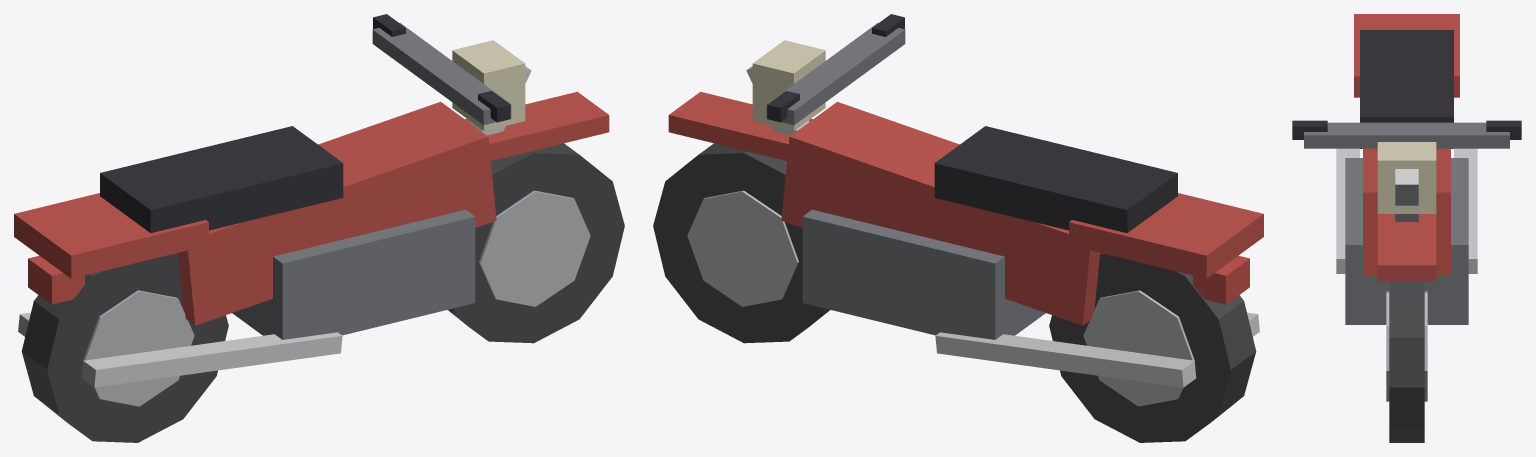
Rendered from Motosiklet_Kirmizi.glb.
The picture shows the model from 3 angles, left to right: view 1: azimuth 30°, elevation 25°; view 2: azimuth 150°, elevation 25°; view 3: azimuth 270°, elevation 25°; orthographic projection. The views are drawn at different scales.
Parts seen in each view (by area): view 1: Motosiklet_Kirmizi; view 2: Motosiklet_Kirmizi; view 3: Motosiklet_Kirmizi.
Boxes of the visible parts, x1,y1,x2,y2 form: Motosiklet_Kirmizi: (14, 14, 624, 442); Motosiklet_Kirmizi: (653, 14, 1263, 442); Motosiklet_Kirmizi: (1292, 14, 1521, 442).
Size of the model in its own units: 2.11 by 1.02 by 0.78.
